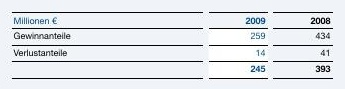table: (0, 0, 345, 89)
